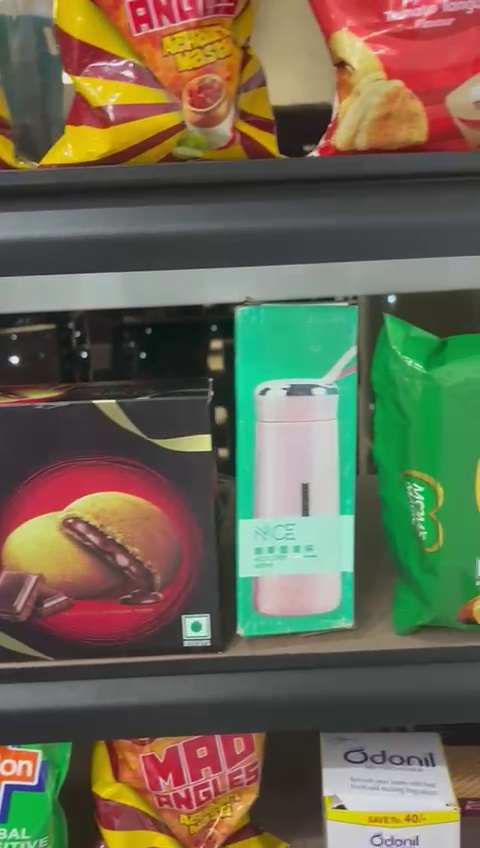Bottle: (233, 306, 361, 631)
